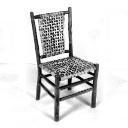chair_success: (23, 5, 103, 123)
